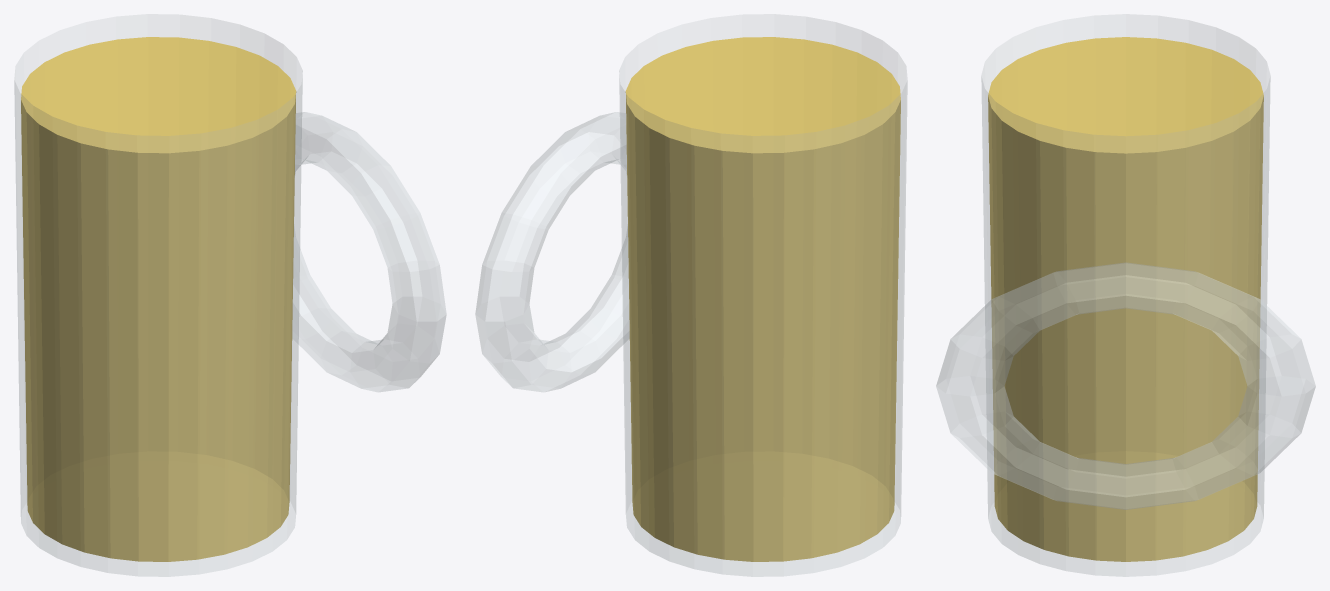
Rendered from glass_mug_giant.glb.
3 views of the same model, side by side, from view 1: azimuth 30°, elevation 25°; view 2: azimuth 150°, elevation 25°; view 3: azimuth 270°, elevation 25° (orthographic).
Parts seen in each view (by area): view 1: LIQUID_SHAPE, GlassBody, Handle; view 2: LIQUID_SHAPE, GlassBody, Handle; view 3: LIQUID_SHAPE, GlassBody, Handle.
Part boxes in pixels (<box>): LIQUID_SHAPE: <box>21,37,296,561</box>; GlassBody: <box>14,14,302,576</box>; Handle: <box>292,112,446,392</box>; LIQUID_SHAPE: <box>625,37,900,561</box>; GlassBody: <box>619,14,907,576</box>; Handle: <box>475,112,629,392</box>; LIQUID_SHAPE: <box>988,37,1263,561</box>; GlassBody: <box>981,14,1270,576</box>; Handle: <box>936,262,1315,509</box>.
Bounding box in the file's own units: 0.171 × 0.22 × 0.1708.
